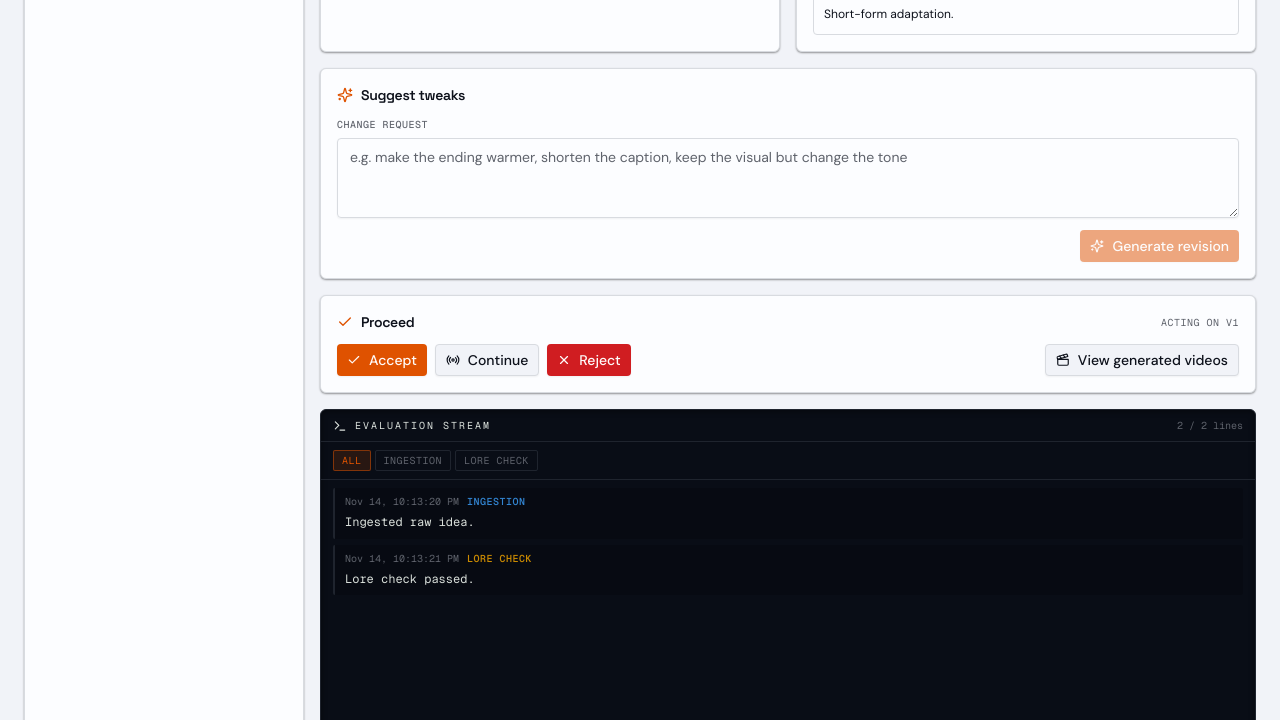
Test case: SimulationPage › accepts a run and reflects approval in the run list
(page scrolled)
Click the button with test id "simulation.accept_button" at (382, 360), box x1=337 y1=344 x2=427 y2=376
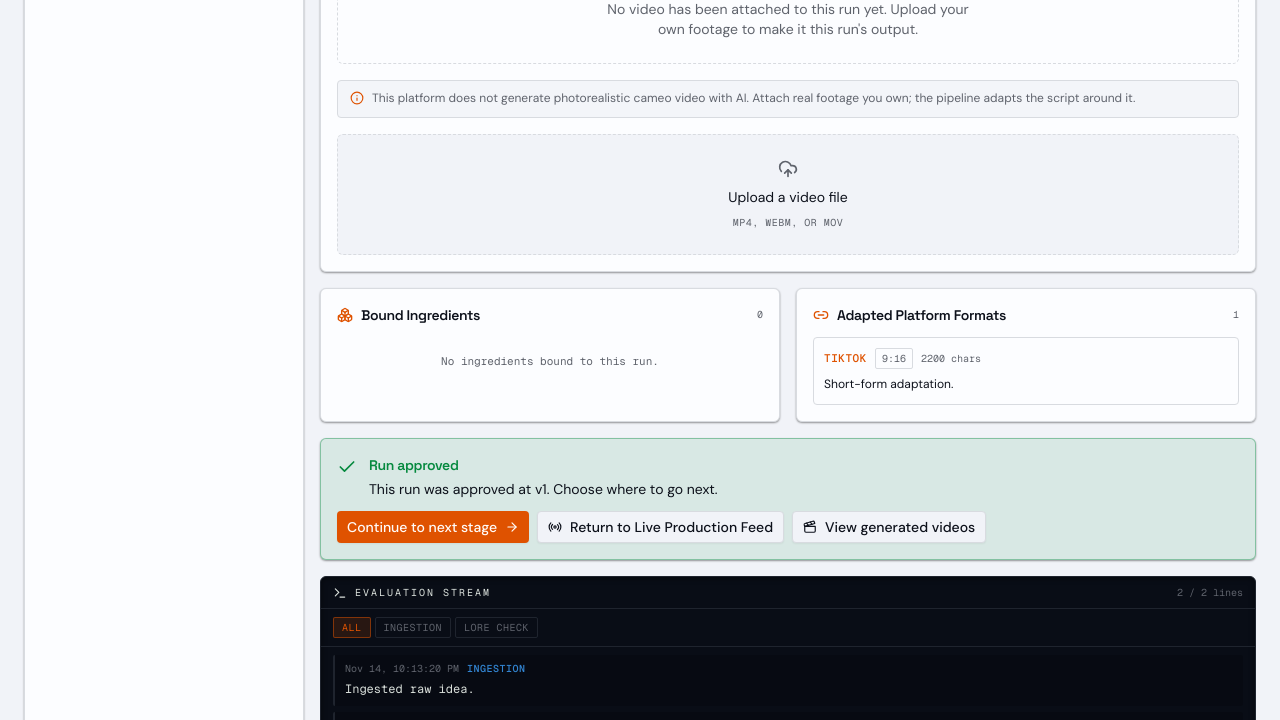
Expected: the element with test id "simulation.proceed.decided_state" shows "approved", x1=369 y1=456 x2=458 y2=474
